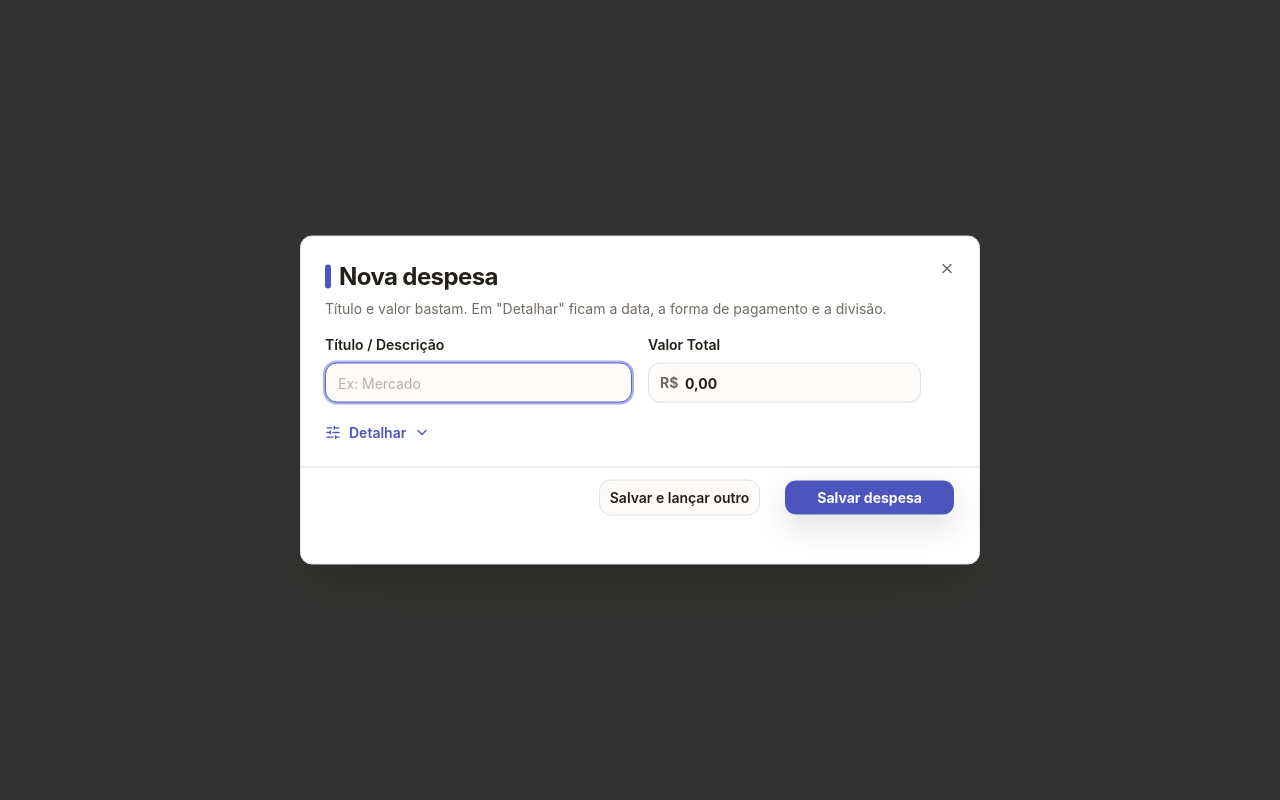
Test: TransactionForm — divisão por item › alternar para "Por item" abre o editor com um item semeado
This screenshot has width=1280, height=800.
Click the button "Detalhar" at (378, 432), box [325, 422, 430, 442]
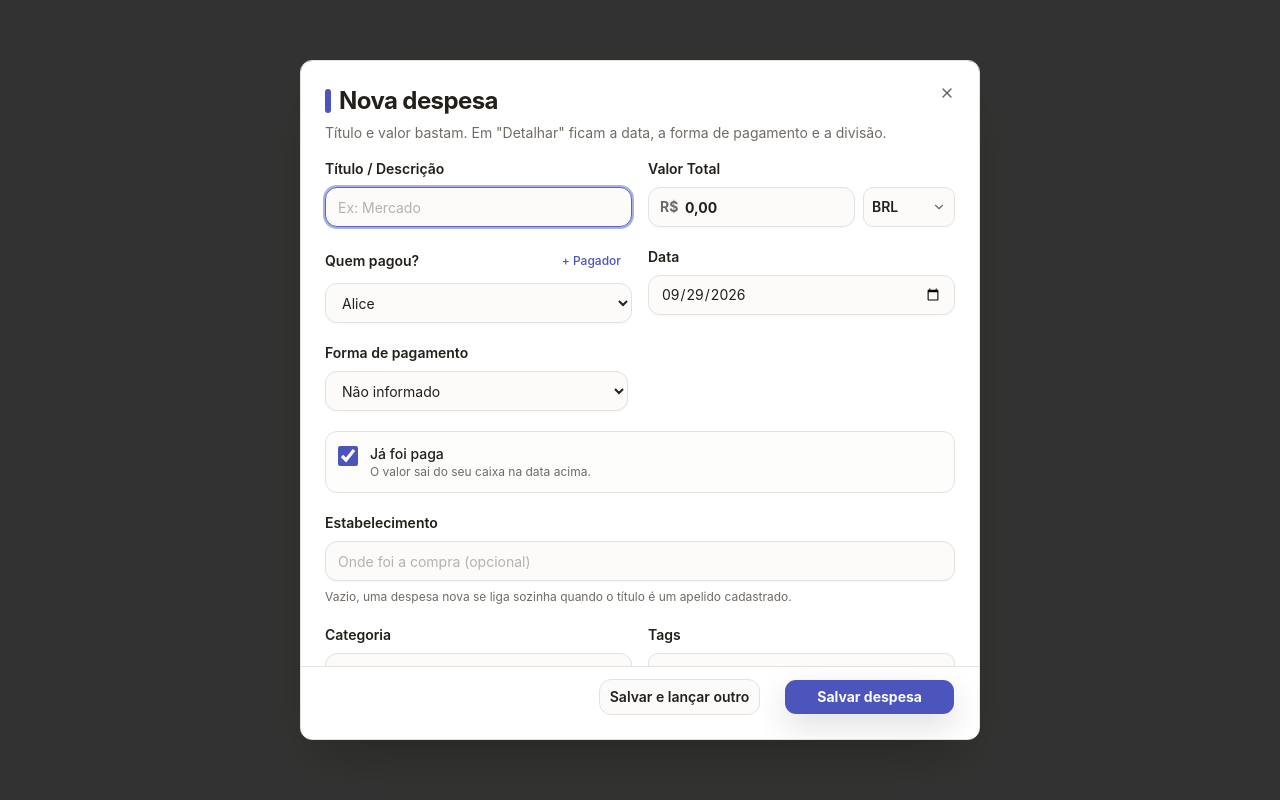
Type "Churrasco" into the field labelled "Título / Descrição" at (478, 207), box [325, 187, 632, 227]
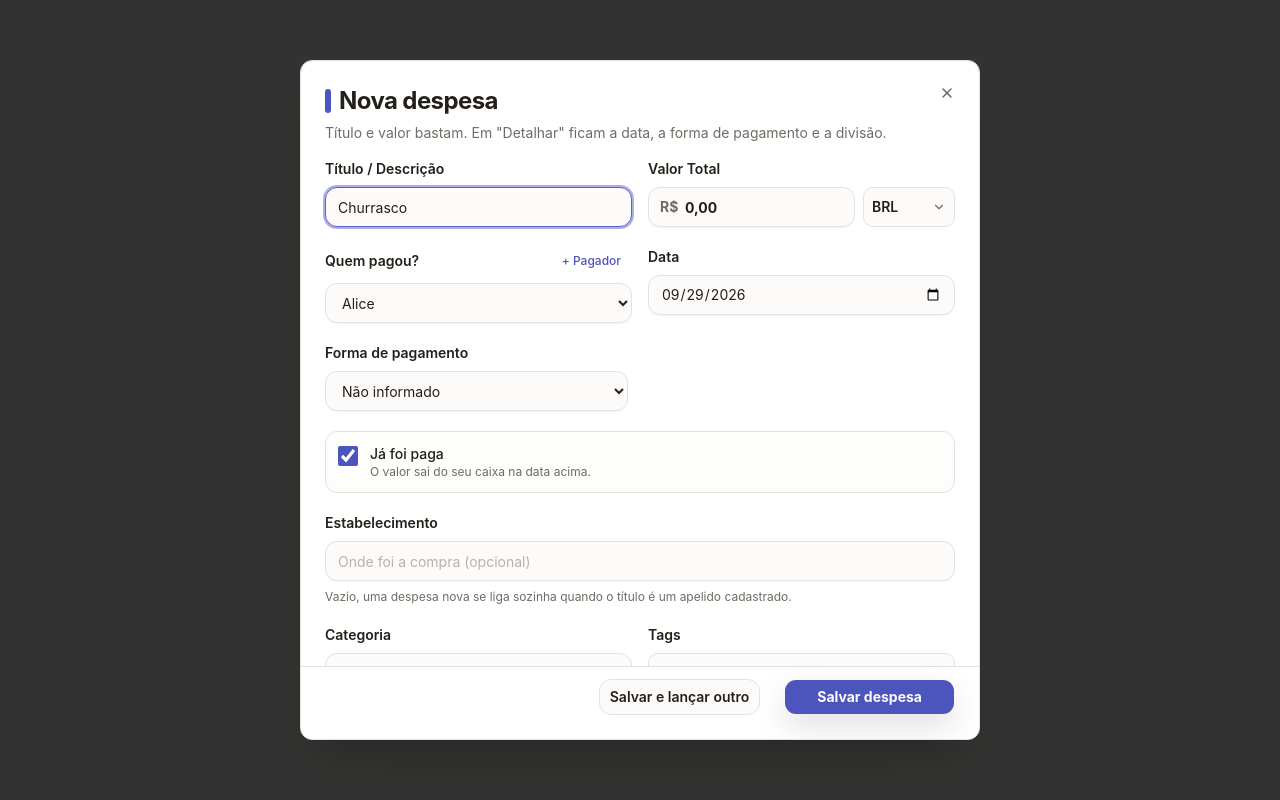
Replace the text in the field labelled "Valor Total" with "90,00" at (752, 207), box [648, 187, 855, 227]
(page scrolled)
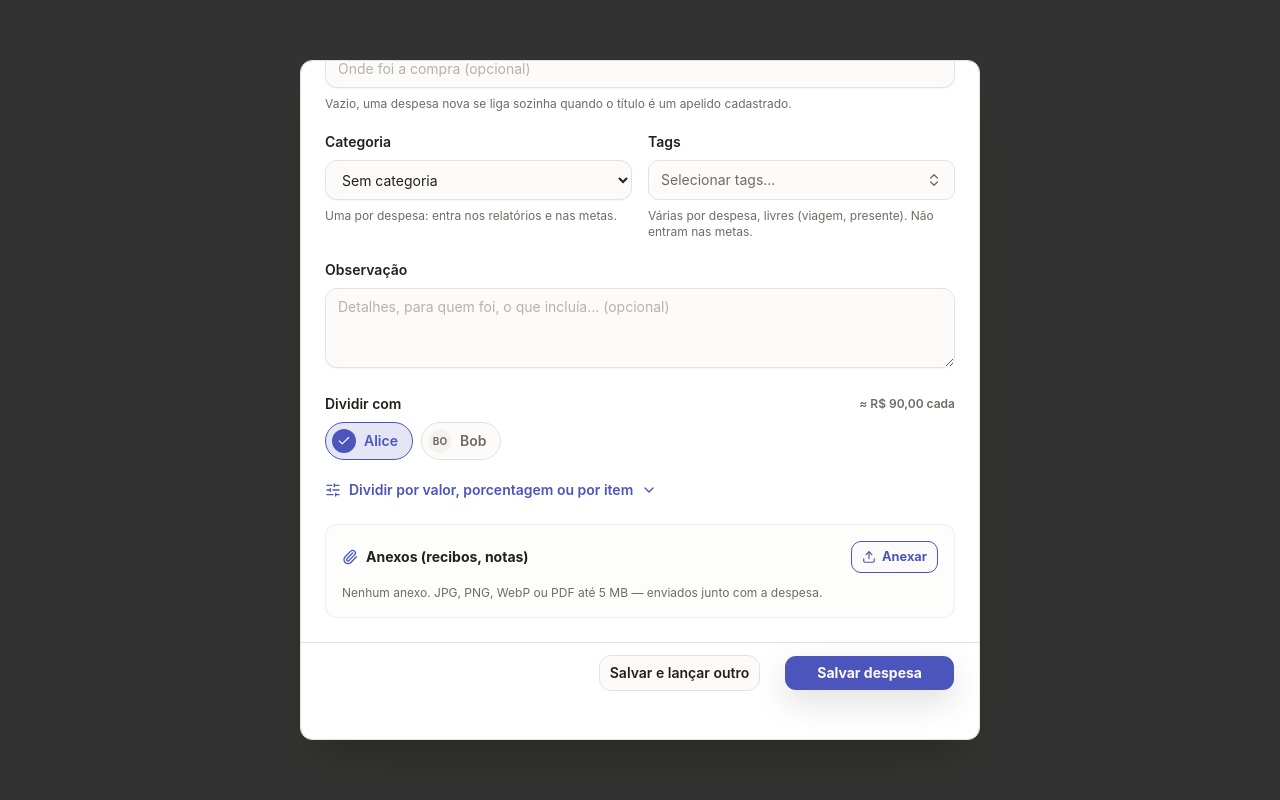
Click the button "Dividir por valor, porcentagem ou por item" at (491, 490), box [325, 480, 657, 500]
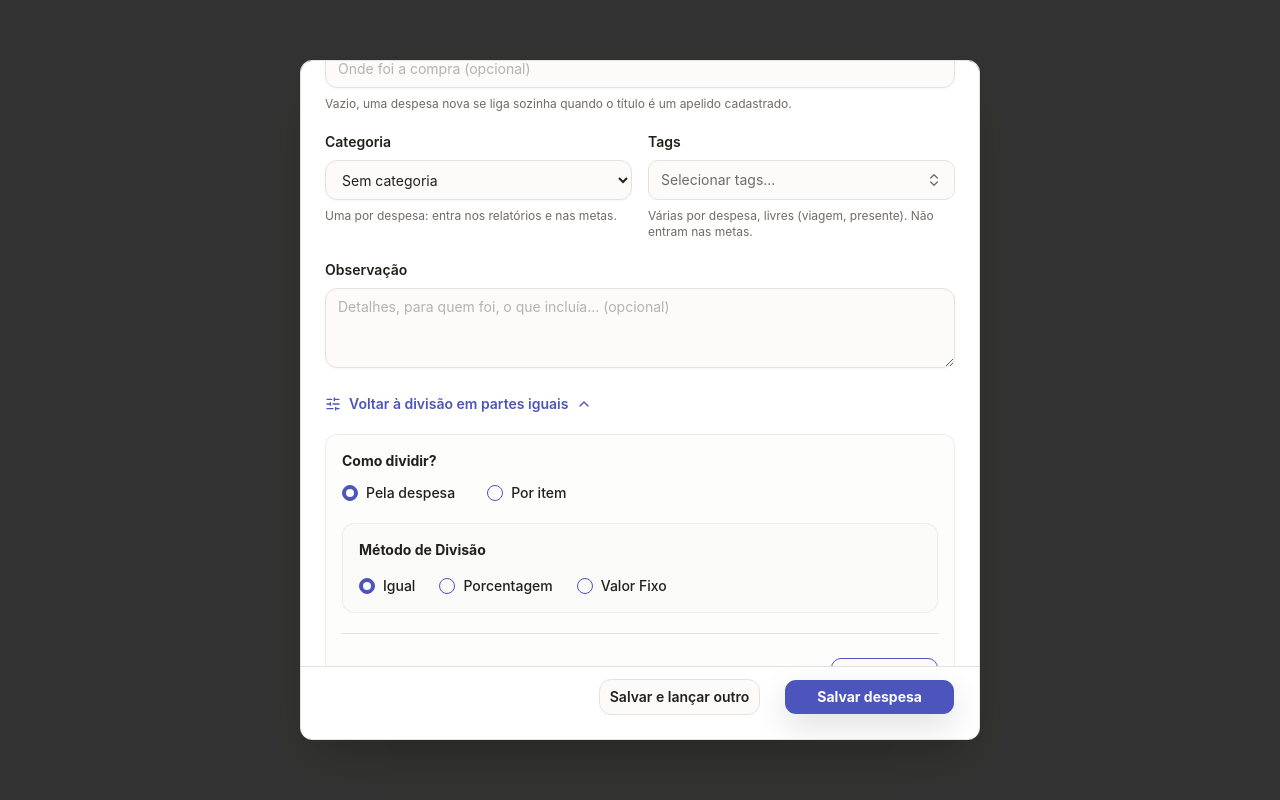
Click the radio button named "Por item" next to "Por item" at (495, 493), box [487, 485, 503, 501]
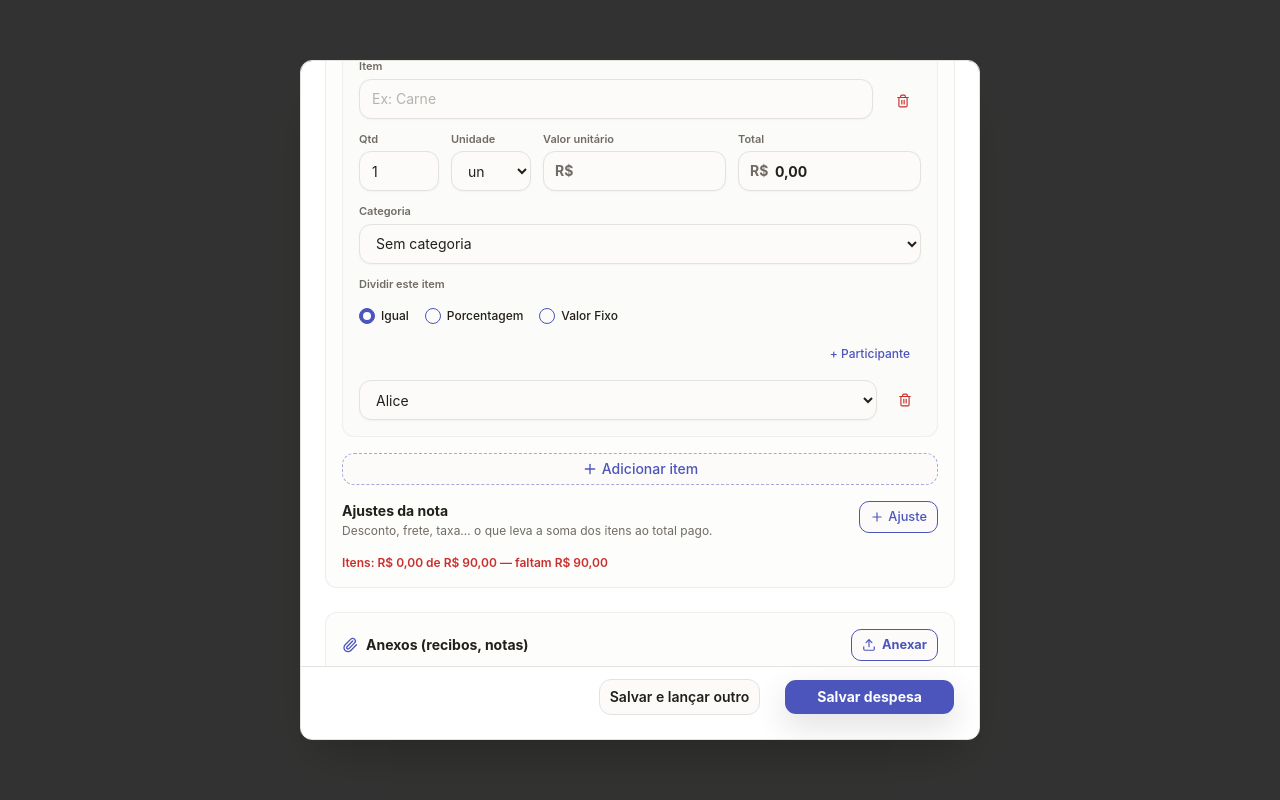
Expected: the element with test id "item-row-0" is shown, [342, 60, 938, 437]
Expected: the number of fields named "Título do item" is 1, [359, 78, 873, 118]
Expected: the dropdown named "Participante do item 1" shows "Alice", [359, 380, 877, 420]
